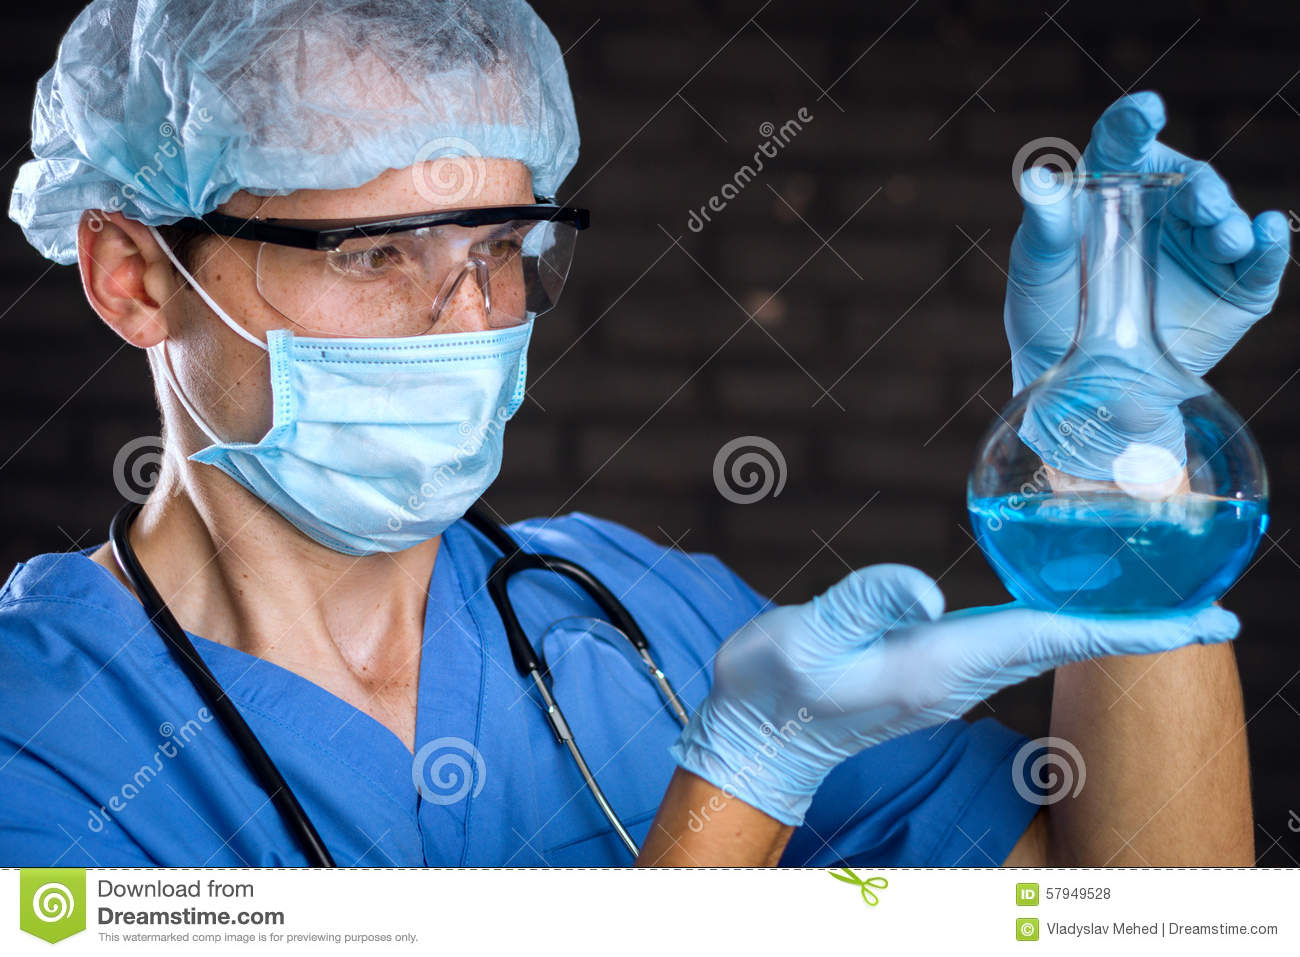mask: (199, 320, 534, 557)
